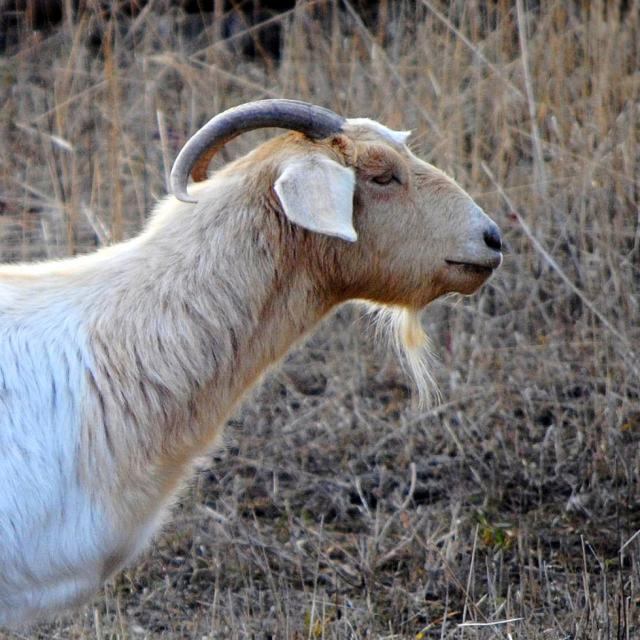Goat: (0, 96, 527, 594)
